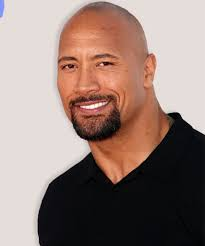b.y: (68, 94, 122, 139)
